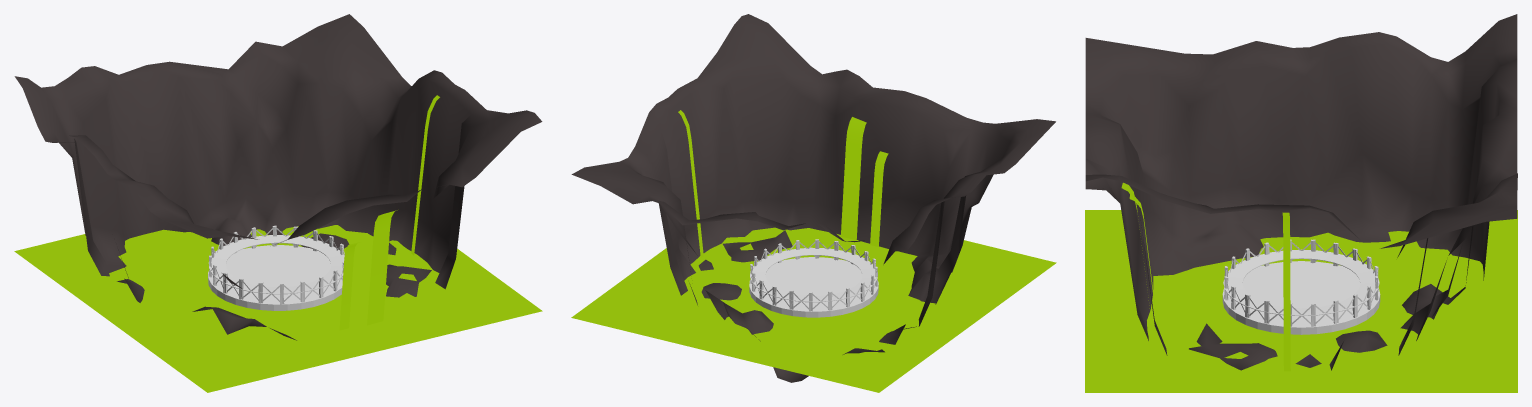
The model's file is mire_landscape.glb.
The picture shows the model from 3 angles, left to right: view 1: azimuth 30°, elevation 25°; view 2: azimuth 150°, elevation 25°; view 3: azimuth 270°, elevation 25°; orthographic projection. The views are drawn at different scales.
Visible parts, largest first — view 1: Cliffs, Ocean, PlatformPiece.005, PlatformPiece.001, Cube.002, Waterfall.002, Waterfall, Waterfall.001; view 2: Cliffs, Ocean, PlatformPiece.005, PlatformPiece.001, Waterfall.002, Cube.002, Waterfall, Waterfall.001; view 3: Cliffs, Ocean, PlatformPiece.005, PlatformPiece.001, Cube.002, Waterfall.001.
Boxes of the visible parts, x1=… form: Cliffs: x1=14, y1=14, x2=542, y2=340; Ocean: x1=14, y1=225, x2=542, y2=392; PlatformPiece.005: x1=208, y1=245, x2=342, y2=310; PlatformPiece.001: x1=208, y1=235, x2=344, y2=294; Cube.002: x1=209, y1=225, x2=344, y2=304; Waterfall.002: x1=367, y1=210, x2=397, y2=325; Waterfall: x1=339, y1=242, x2=360, y2=330; Waterfall.001: x1=411, y1=95, x2=439, y2=255; Cliffs: x1=571, y1=14, x2=1055, y2=382; Ocean: x1=571, y1=227, x2=1056, y2=392; PlatformPiece.005: x1=749, y1=257, x2=878, y2=317; PlatformPiece.001: x1=750, y1=247, x2=877, y2=302; Waterfall.002: x1=841, y1=117, x2=866, y2=239; Cube.002: x1=750, y1=239, x2=877, y2=311; Waterfall: x1=870, y1=151, x2=888, y2=246; Waterfall.001: x1=678, y1=110, x2=703, y2=257; Cliffs: x1=1085, y1=14, x2=1517, y2=370; Ocean: x1=1085, y1=210, x2=1517, y2=392; PlatformPiece.005: x1=1222, y1=261, x2=1380, y2=334; PlatformPiece.001: x1=1223, y1=249, x2=1379, y2=316; Cube.002: x1=1224, y1=239, x2=1378, y2=326; Waterfall.001: x1=1282, y1=212, x2=1290, y2=371.
Size of the model in its own units: 35 by 23.5 by 35.
